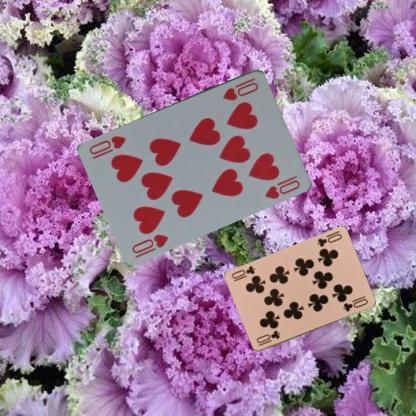10c: (254, 328, 282, 347), (314, 231, 343, 249)
10h: (220, 75, 260, 102), (129, 232, 170, 254)
